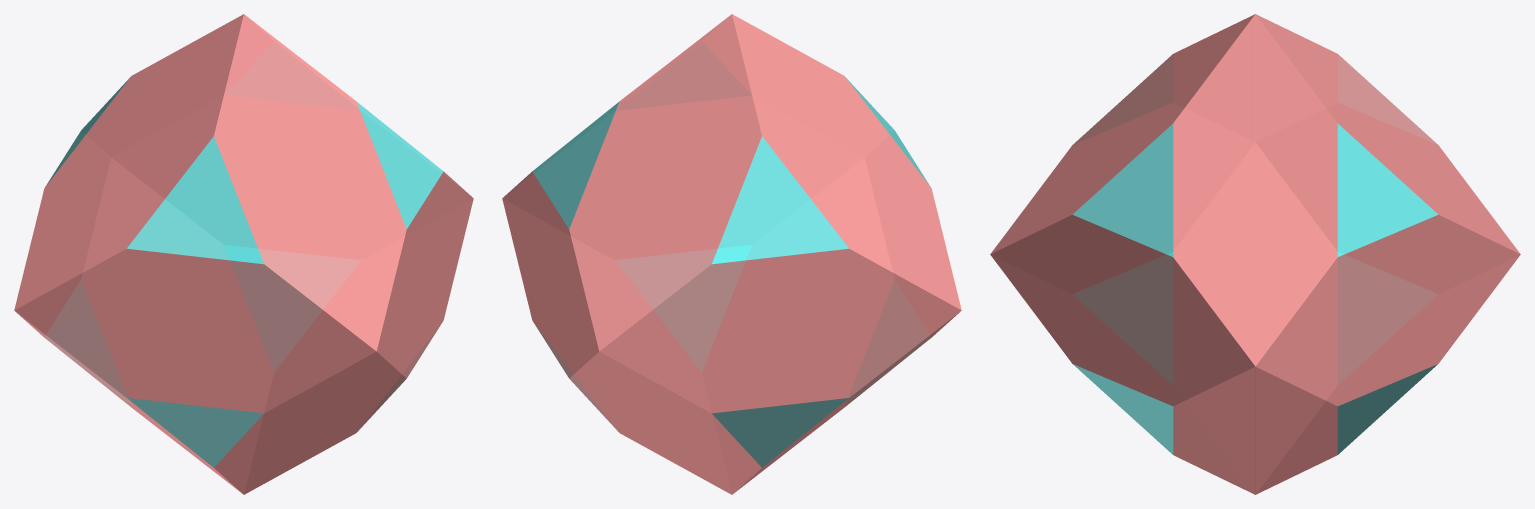
File: ChamferedOctahedron.obj
3 renders of one model, left to right at view 1: azimuth 30°, elevation 25°; view 2: azimuth 150°, elevation 25°; view 3: azimuth 270°, elevation 25°, orthographic.
Size of the model in its own units: 3.72 by 3.72 by 3.72.
